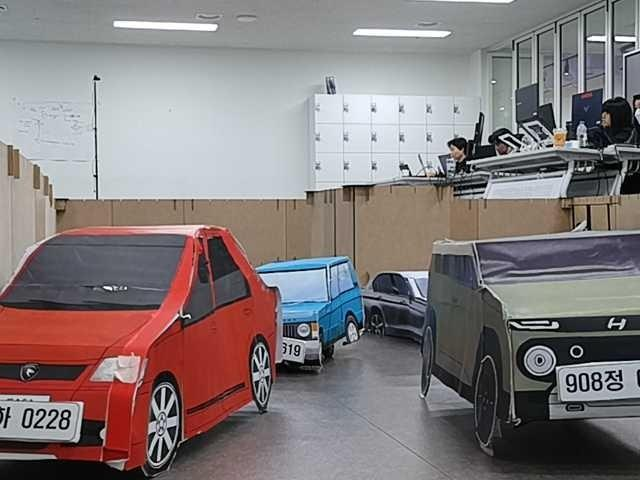car: (0, 217, 286, 480), (415, 227, 640, 453), (263, 254, 368, 373), (360, 266, 434, 344)
id: (552, 358, 640, 407), (0, 398, 86, 443), (274, 338, 307, 362)
